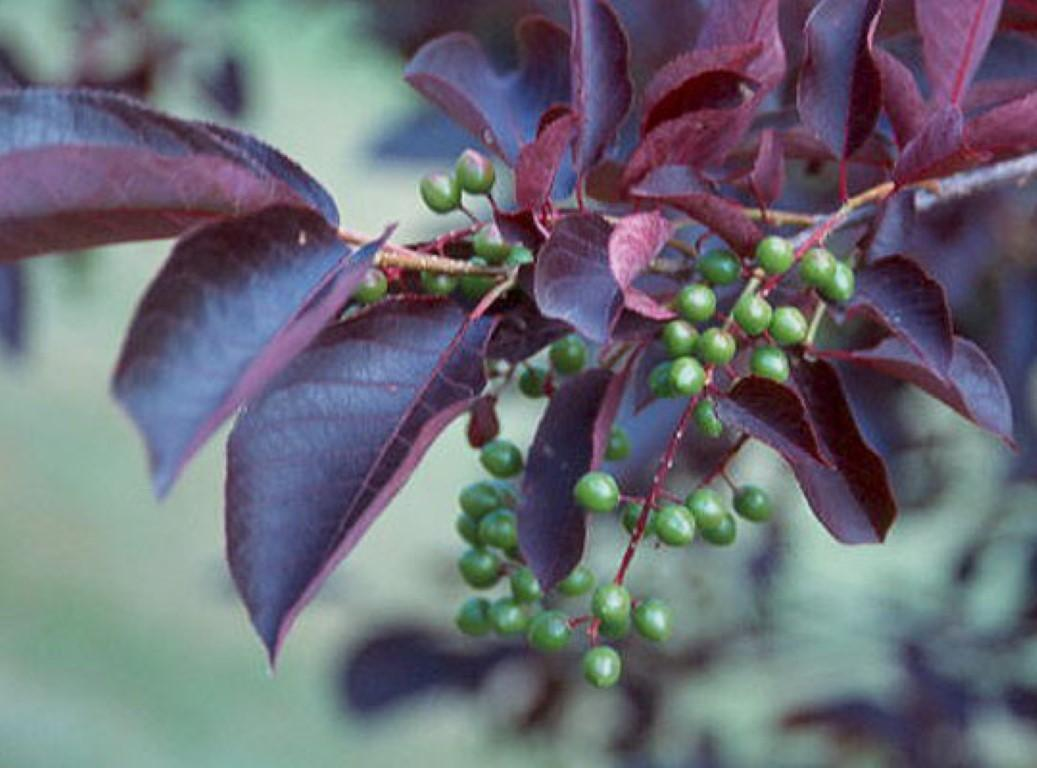Cherry leaf: (219, 250, 500, 709), (506, 339, 658, 624), (739, 336, 909, 575), (521, 177, 678, 359), (699, 347, 847, 476), (836, 258, 962, 407)
